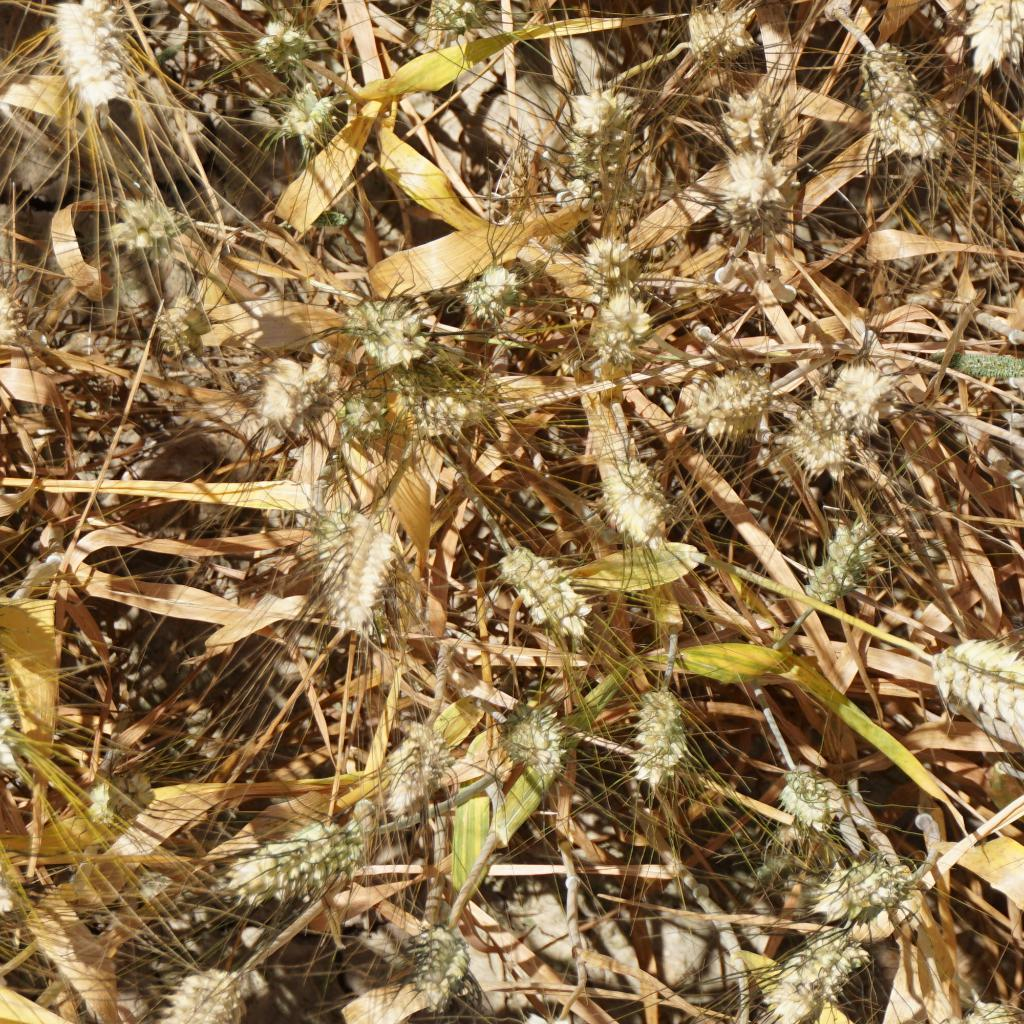0-0: (857, 31, 954, 166), (247, 817, 368, 917), (917, 630, 1024, 740), (321, 496, 405, 631), (41, 0, 143, 103), (560, 88, 641, 200), (801, 510, 890, 610), (499, 548, 597, 638), (404, 923, 489, 1024), (812, 854, 917, 935), (623, 684, 696, 800), (376, 720, 469, 810), (408, 362, 506, 444), (361, 287, 444, 378), (784, 393, 870, 480), (768, 941, 867, 1016), (111, 183, 200, 261), (817, 352, 896, 439), (947, 0, 1024, 85), (598, 453, 675, 536), (684, 0, 774, 70), (252, 354, 335, 429), (68, 765, 163, 828), (462, 256, 537, 332), (713, 147, 779, 231), (574, 223, 647, 297), (777, 766, 853, 837), (504, 696, 566, 783), (277, 71, 339, 152), (695, 367, 760, 443), (142, 280, 207, 354), (746, 841, 816, 906), (166, 968, 242, 1024), (254, 9, 311, 80), (598, 308, 655, 376), (342, 391, 408, 446), (425, 0, 505, 43), (716, 99, 776, 152), (999, 153, 1024, 220), (0, 275, 15, 359)
